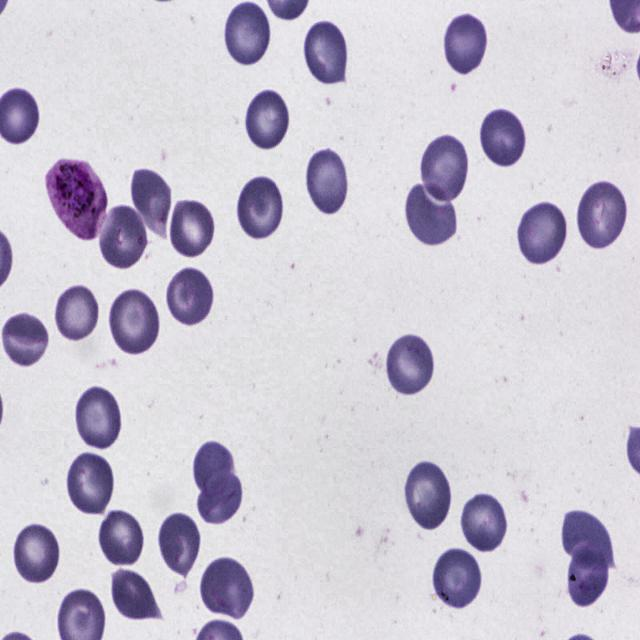difficult: (45, 155, 109, 243)
red blood cell: (574, 178, 630, 252), (107, 286, 163, 358), (516, 200, 570, 268), (403, 460, 453, 533), (403, 181, 458, 247), (64, 451, 118, 518), (201, 555, 255, 622), (384, 331, 437, 398), (560, 507, 613, 574), (223, 1, 275, 68), (430, 547, 484, 611), (420, 134, 468, 206), (98, 203, 148, 272), (165, 263, 218, 328), (236, 174, 285, 243), (458, 490, 509, 556), (303, 17, 350, 88), (443, 9, 490, 80), (243, 86, 293, 152), (128, 163, 174, 234), (478, 106, 529, 169), (305, 146, 349, 218), (167, 197, 217, 260), (108, 568, 165, 623), (10, 523, 60, 585), (96, 504, 146, 566), (74, 386, 122, 450), (566, 541, 610, 610), (1, 311, 52, 370), (157, 513, 201, 579), (54, 282, 100, 343), (196, 470, 244, 525), (192, 439, 234, 500)
